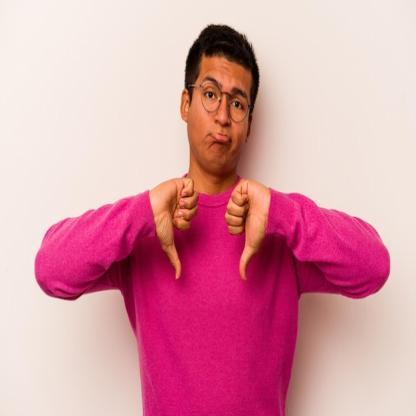thumb_down: (148, 172, 199, 283), (224, 174, 272, 284)
